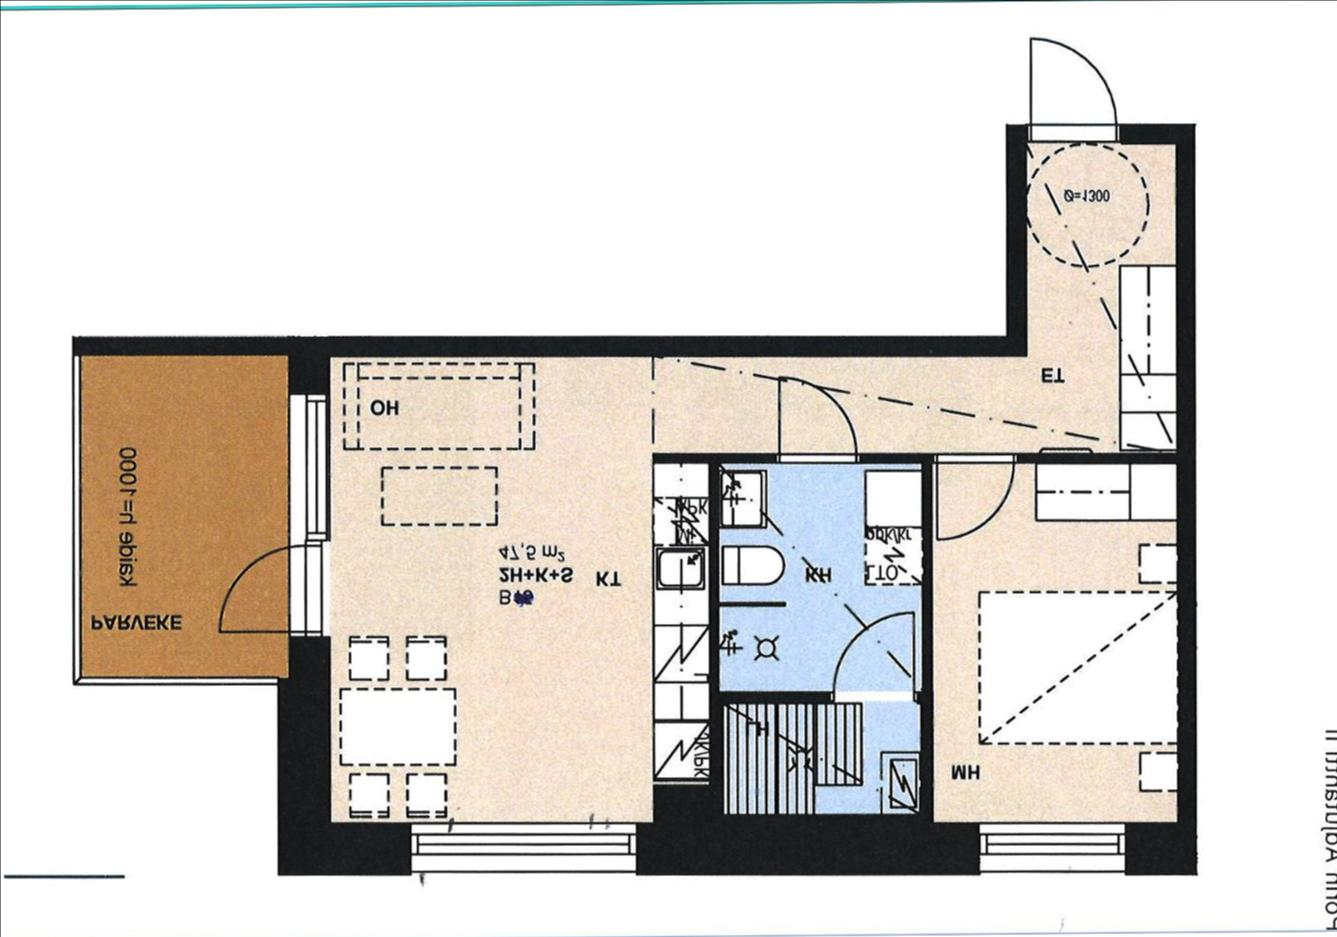door: (1024, 28, 1126, 144), (212, 540, 327, 639), (773, 376, 863, 465), (935, 451, 1018, 546)
window: (401, 819, 647, 878), (969, 817, 1137, 880), (277, 385, 336, 544)
